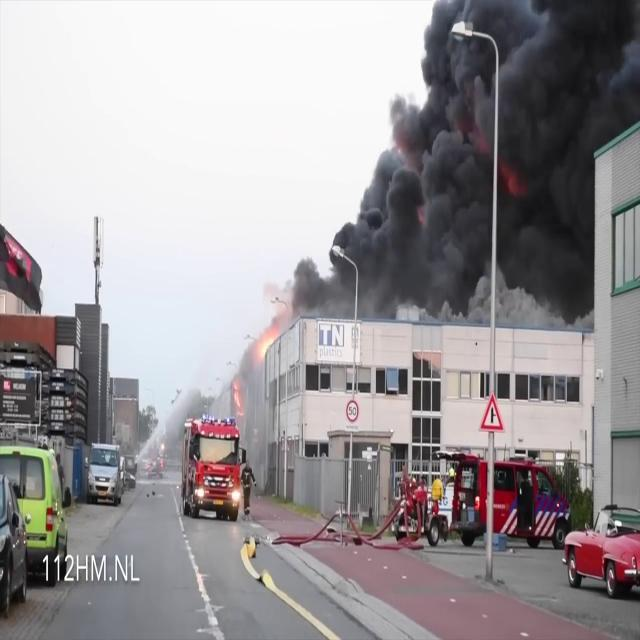Fire: (254, 318, 276, 370)
Smoke: (285, 0, 639, 329)
